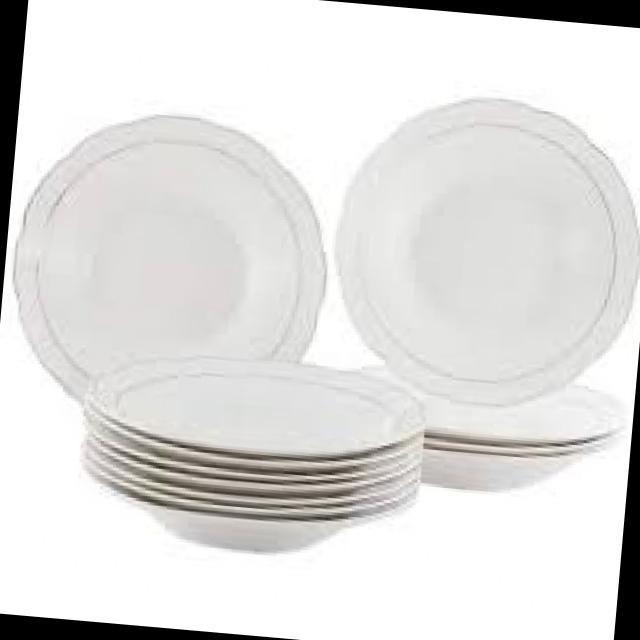plate: (321, 72, 640, 421), (8, 97, 336, 407)
